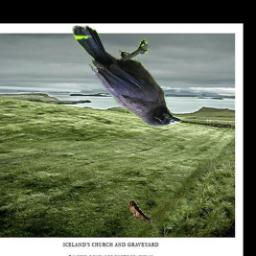Crow: (73, 25, 183, 127)
Swallow: (130, 199, 156, 224)
